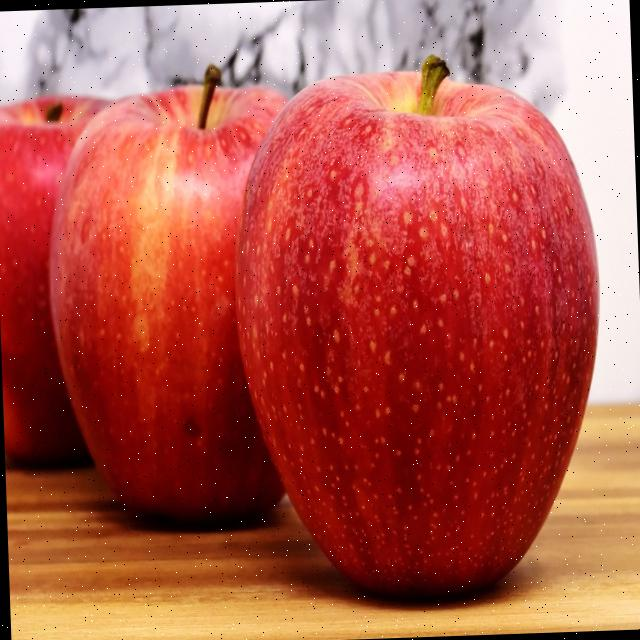Apel: (226, 48, 611, 604), (40, 61, 304, 528), (0, 91, 125, 467)
